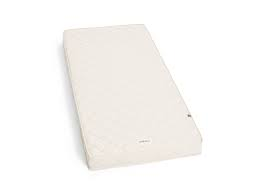bed-matress: (64, 22, 204, 172)
